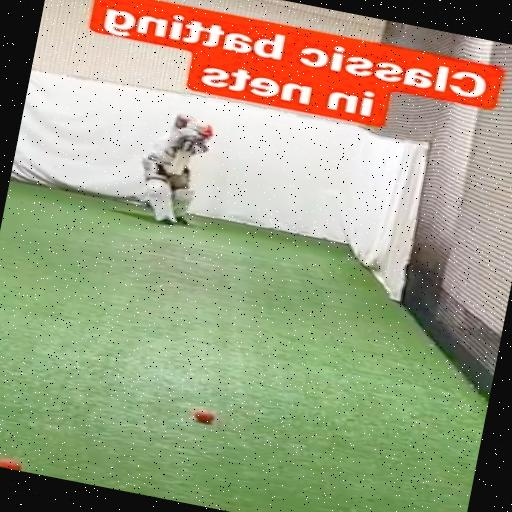Cricket bat: (172, 136, 195, 175)
